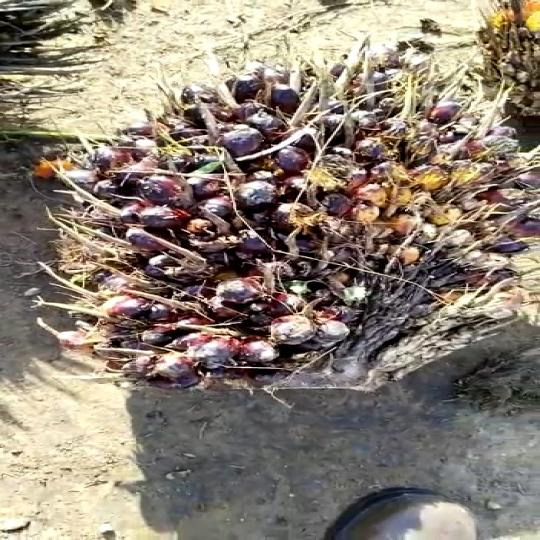kurang masak: (57, 41, 520, 390)
